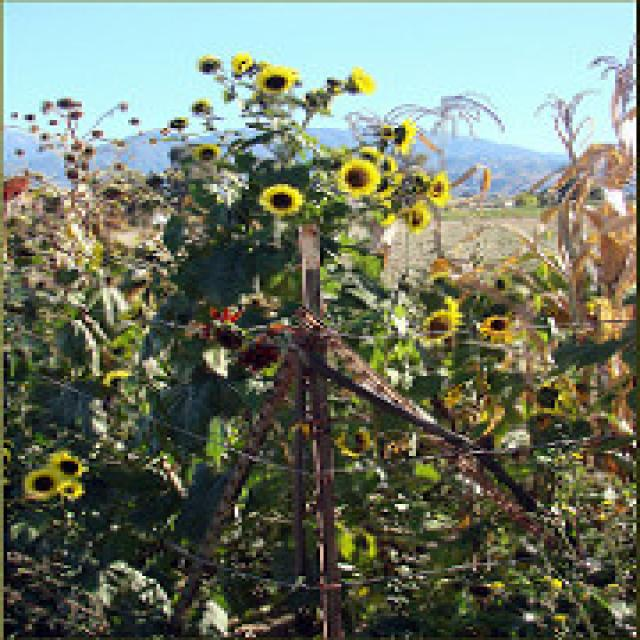sunflower: (336, 158, 383, 200), (257, 184, 306, 213), (256, 66, 303, 96), (51, 449, 90, 484), (429, 171, 451, 209)
